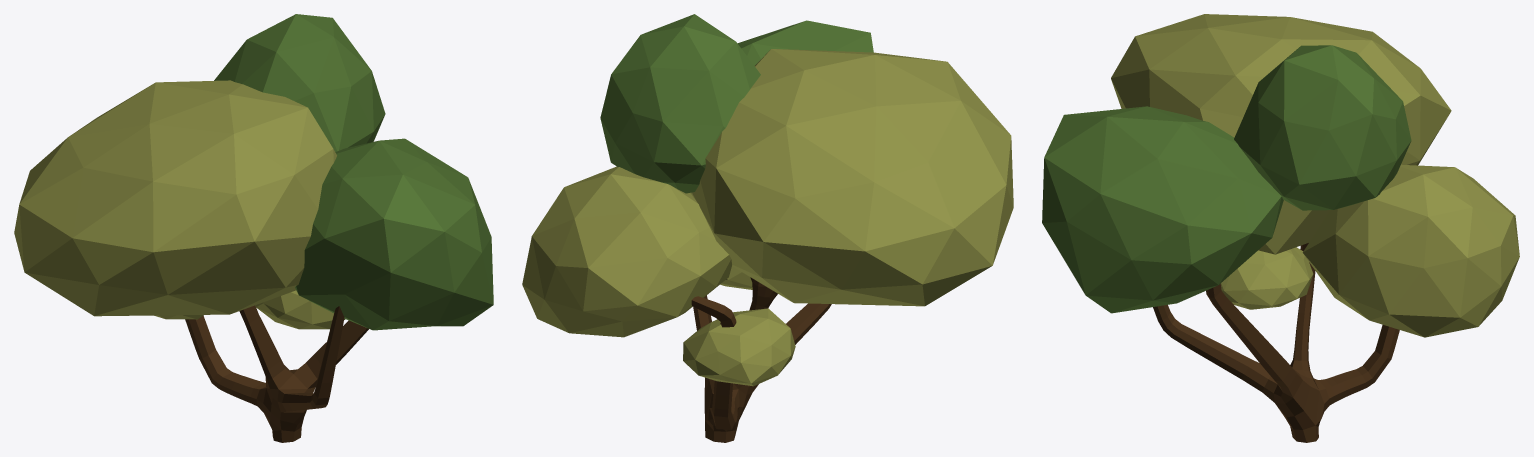
The model's file is kust.fbx.
3 views of the same model, side by side, from view 1: azimuth 30°, elevation 25°; view 2: azimuth 150°, elevation 25°; view 3: azimuth 270°, elevation 25° (orthographic). The views are drawn at different scales.
Parts seen in each view (by area): view 1: Icosphere.027, Icosphere.026, Icosphere.031, Icosphere.004, Icosphere.030; view 2: Icosphere.027, Icosphere.029, Icosphere.031, Icosphere.028, Icosphere.004, Icosphere.026; view 3: Icosphere.026, Icosphere.029, Icosphere.027, Icosphere.031, Icosphere.004, Icosphere.030.
Boxes of the visible parts, box(x1,y1,x2,y2) form: Icosphere.027: box(14, 80, 336, 316); Icosphere.026: box(295, 138, 493, 330); Icosphere.031: box(214, 14, 385, 151); Icosphere.004: box(185, 305, 368, 442); Icosphere.030: box(255, 290, 345, 329); Icosphere.027: box(690, 49, 1013, 306); Icosphere.029: box(522, 166, 731, 337); Icosphere.031: box(600, 14, 760, 193); Icosphere.028: box(683, 308, 795, 386); Icosphere.004: box(691, 277, 831, 442); Icosphere.026: box(737, 20, 873, 65); Icosphere.026: box(1042, 106, 1283, 313); Icosphere.029: box(1302, 164, 1519, 337); Icosphere.027: box(1111, 14, 1451, 254); Icosphere.031: box(1234, 45, 1411, 210); Icosphere.004: box(1153, 243, 1399, 442); Icosphere.030: box(1220, 247, 1313, 309).
Size of the model in its own units: 312 by 308 by 330.
